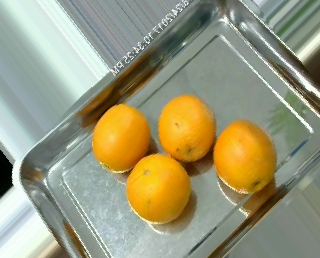Orange: (213, 118, 278, 194), (125, 153, 192, 223), (155, 94, 216, 163), (91, 104, 150, 174)
